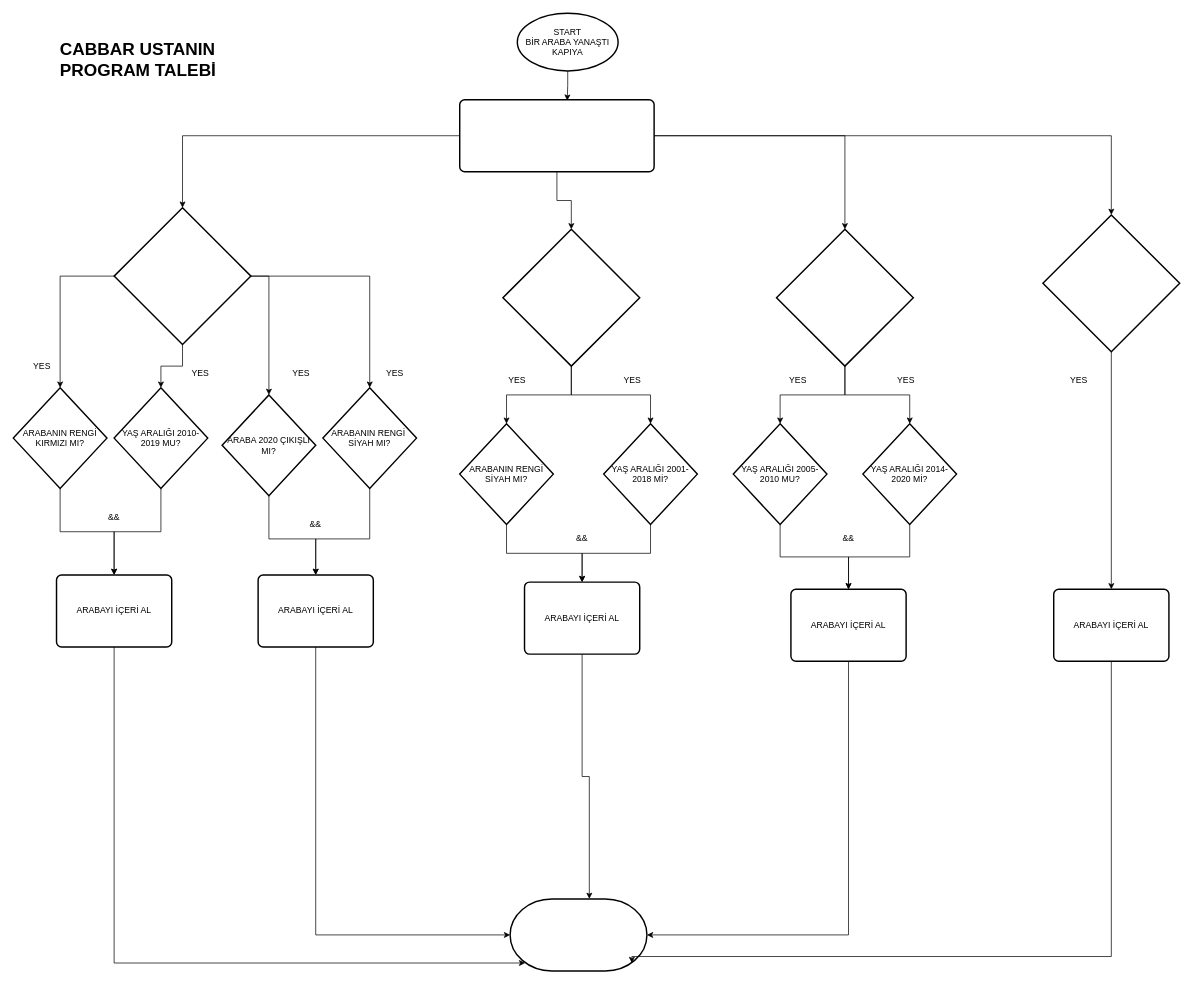
The diagram is 1192 pixels wide and 984 high, and some of its shapes have lost their labels. Here are the shapes that lost their labels. From the top down, the centre of each, then its label:
At point (556, 135): "ARABANIN MARKA, RENK VE YAŞ ARALIĞINA DAİR BİLGİLERİ GİRİNİZ".
At point (182, 276): "ARABANIN MARKASI BMW Mİ?".
At point (1111, 283): "ARABA 5 YILLIK MÜŞTERİNİN ARABASI MI?".
At point (571, 297): "ARABANIN MARKASI AUDİ Mİ?".
At point (844, 297): "ARABANIN MARKASI VW Mİ?".
At point (578, 934): "FINISH".
